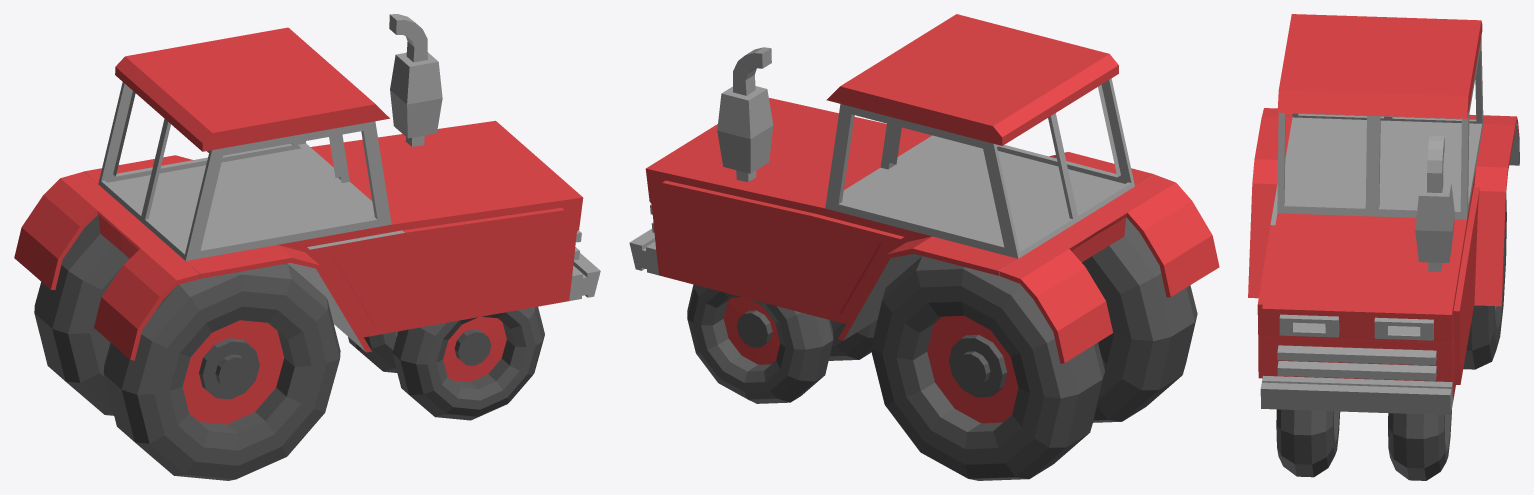
Rendered from tractor.gltf.
3 views of the same model, side by side, from view 1: azimuth 30°, elevation 25°; view 2: azimuth 150°, elevation 25°; view 3: azimuth 270°, elevation 25° (orthographic). The views are drawn at different scales.
Parts seen in each view (by area): view 1: Object_25, Object_13, Object_6; view 2: Object_25, Object_13, Object_6; view 3: Object_25, Object_6, Object_13.
Part boxes in pixels (<box>): Object_25: <box>14,27,583,424</box>; Object_13: <box>34,215,544,480</box>; Object_6: <box>84,14,600,351</box>; Object_25: <box>645,14,1219,423</box>; Object_13: <box>687,217,1197,480</box>; Object_6: <box>629,47,1154,340</box>; Object_25: <box>1248,14,1519,401</box>; Object_6: <box>1260,36,1519,415</box>; Object_13: <box>1276,194,1506,480</box>.
Size of the model in its own units: 27.44 by 19.38 by 14.29.
